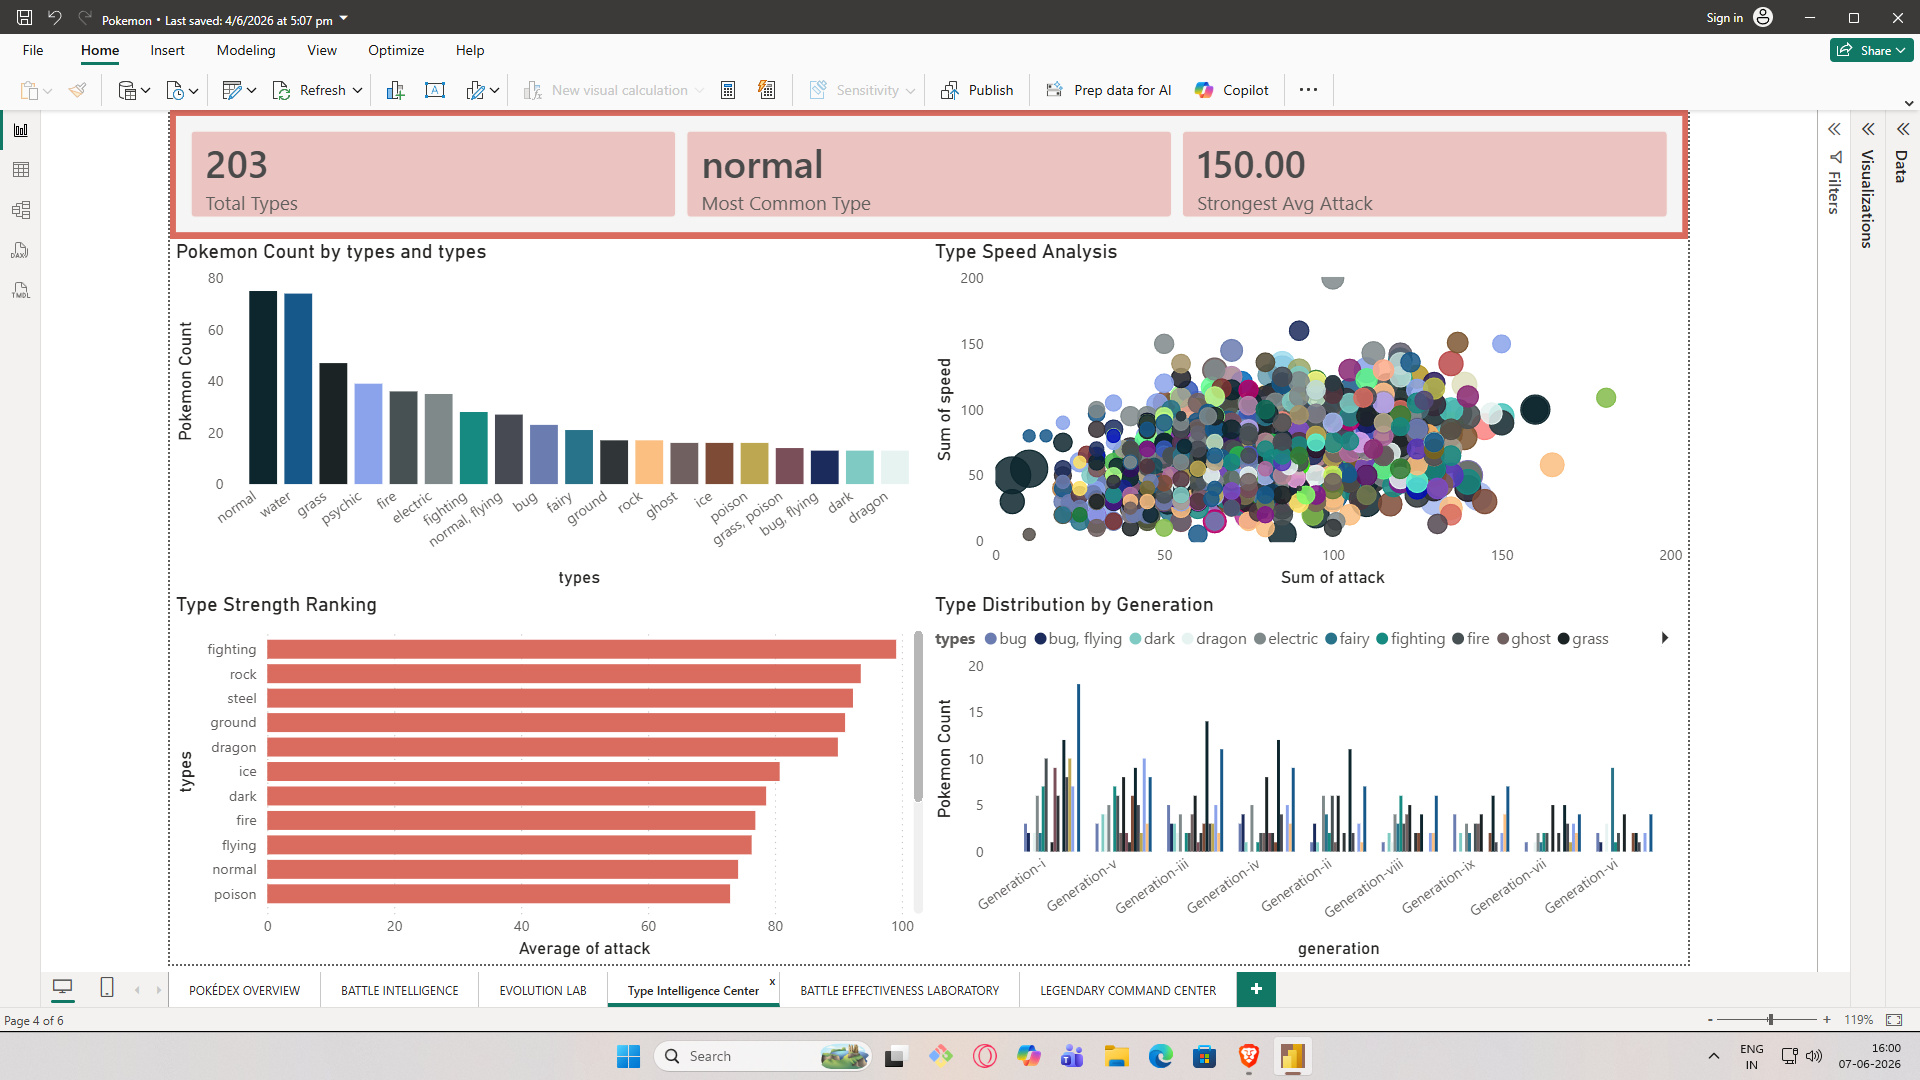

Layout of this report page (visuals, bound fields, positions):
{"tool":"powerbi","page":{"name":"Type Intelligence Center","canvas":[1280,720],"ordinal":3},"visuals":[{"type":"cardVisual","fields":{"Data":["Pokemon.Total Types","Pokemon.Most Common Type","Pokemon.Strongest Avg Attack"]},"box":[0,0,1280,108.9],"z":0},{"type":"columnChart","fields":{"Category":["Pokemon.types"],"Y":["Pokemon.Pokemon Count"],"Series":["Pokemon.types"]},"box":[0,108.9,640,297.6],"z":1000},{"type":"clusteredBarChart","title":"Type Strength Ranking","fields":{"Category":["Pokemon.types"],"Y":["Avg(Pokemon.attack)"]},"box":[0,406.6,640,313.2],"z":2000},{"type":"scatterChart","title":"Type Speed Analysis","fields":{"X":["Sum(Pokemon.attack)"],"Y":["Sum(Pokemon.speed)"],"Size":["Sum(Pokemon.hp)"],"Series":["Pokemon.types"],"Category":["Pokemon.name"]},"box":[640,108.9,640,297.6],"z":3000},{"type":"clusteredColumnChart","title":"Type Distribution by Generation","fields":{"Category":["Pokemon.generation"],"Series":["Pokemon.types"],"Y":["Pokemon.Pokemon Count"]},"box":[640,406.6,640,313.2],"z":4000}]}

Visuals, with their boxes on the page's 1280x720 design canvas (x1, y1, x2, y2). These are canvas units, not pixel positions in the 1920x1080 screenshot, which may show the page scaled, cropped or inside an application window:
cardVisual - Pokemon.Total Types x Pokemon.Most Common Type: locate(0, 0, 1280, 109)
columnChart - Pokemon.types x Pokemon.Pokemon Count: locate(0, 109, 640, 406)
"Type Strength Ranking" clusteredBarChart: locate(0, 407, 640, 720)
"Type Speed Analysis" scatterChart: locate(640, 109, 1280, 406)
"Type Distribution by Generation" clusteredColumnChart: locate(640, 407, 1280, 720)
